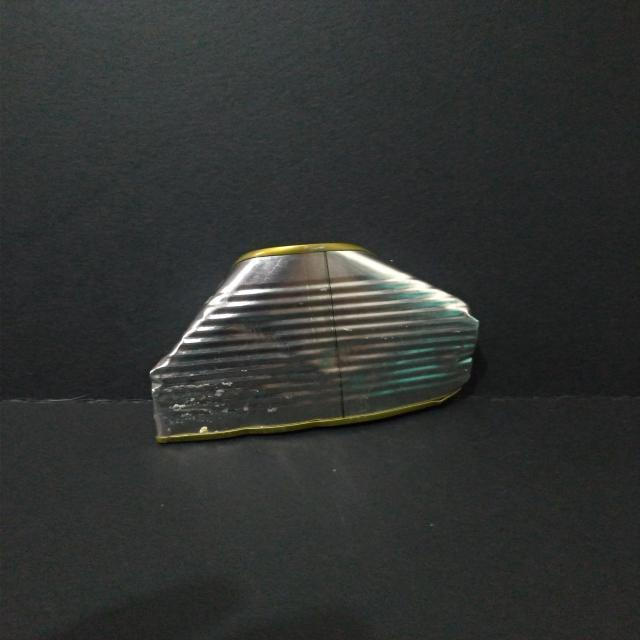metal-can: (143, 238, 484, 448)
